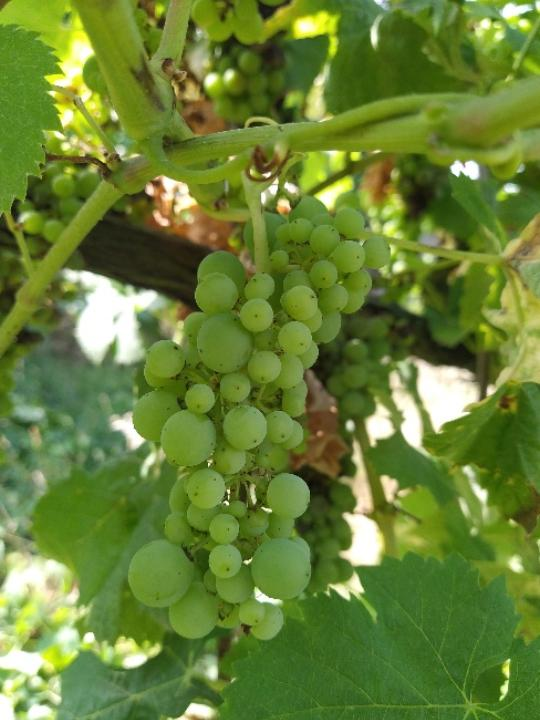grape: (126, 191, 394, 644)
